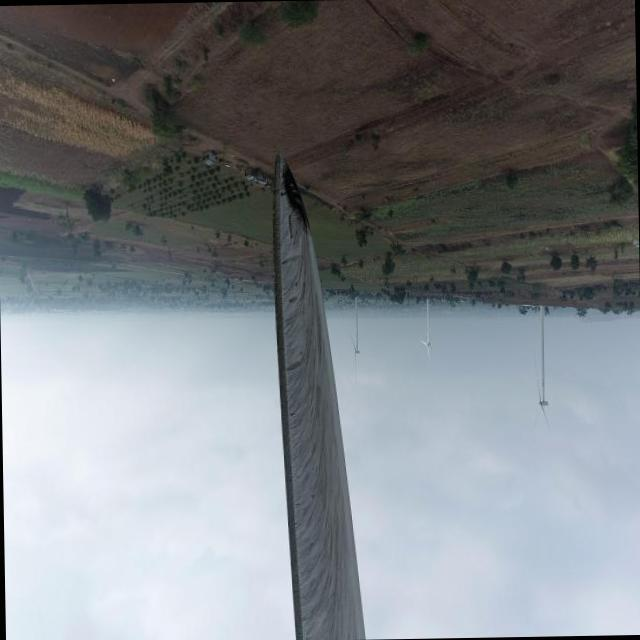Dirt: (273, 160, 370, 640)
Oil LEAKAGE: (280, 158, 315, 225)
Pin Hole: (277, 186, 290, 202)
